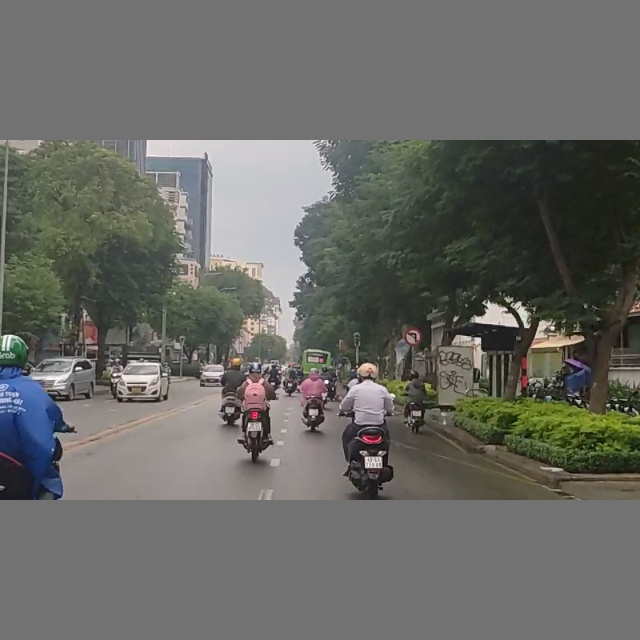P.123a: (405, 328, 423, 346)
